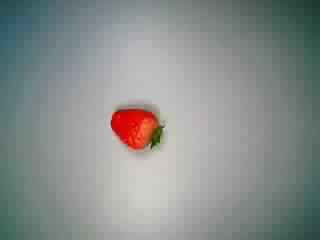strawberry: (106, 93, 168, 163)
